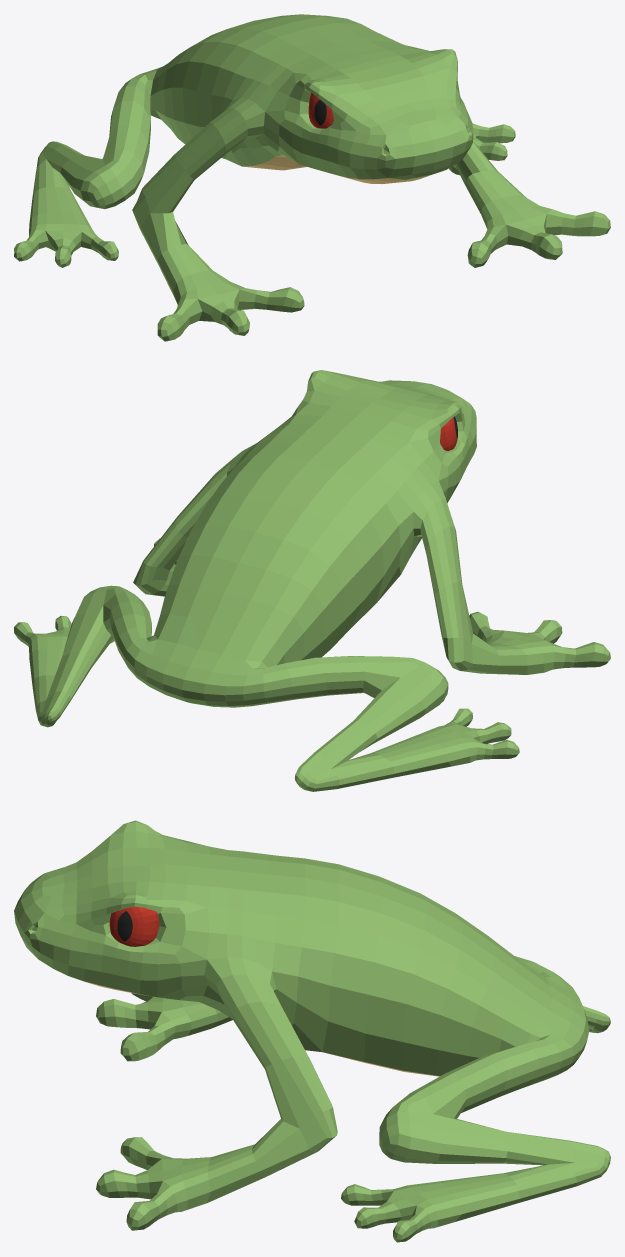
File: frog.glb
3 renders of one model, top to bottom at view 1: azimuth 30°, elevation 25°; view 2: azimuth 150°, elevation 25°; view 3: azimuth 270°, elevation 25°, orthographic. The views are drawn at different scales.
Visible parts, largest first — view 1: Frog; view 2: Frog; view 3: Frog.
Part boxes in pixels (<box>): Frog: <box>14,14,610,341</box>; Frog: <box>14,370,610,791</box>; Frog: <box>14,820,610,1242</box>.
Bounding box in the file's own units: 0.9479 × 0.4065 × 0.8694.
Materials: 1 (1 with a texture image).
